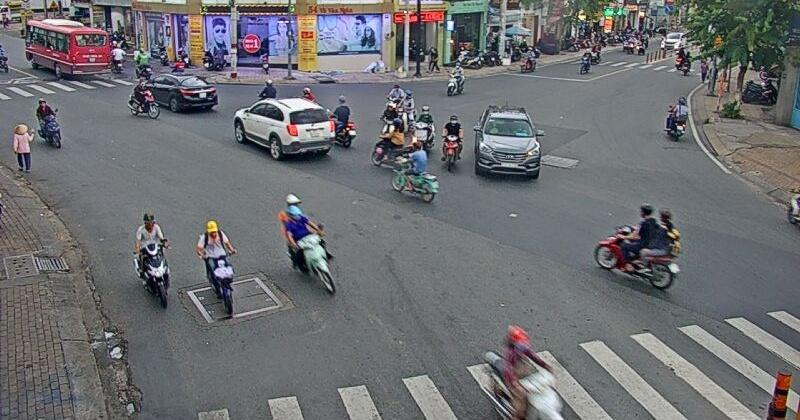xe hoi: (232, 96, 334, 158), (473, 105, 546, 177), (149, 74, 218, 112)
xe may: (592, 202, 681, 290), (278, 193, 335, 295), (196, 220, 235, 314), (133, 212, 169, 306), (390, 142, 438, 202), (35, 97, 61, 149), (127, 79, 160, 119), (440, 114, 463, 171), (663, 96, 688, 140), (411, 104, 435, 144), (446, 62, 464, 95)
